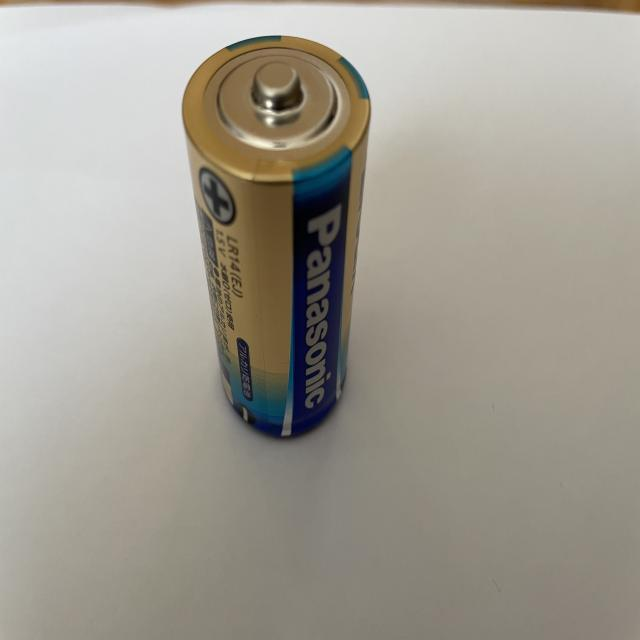hazardous waste: (179, 33, 374, 439)
